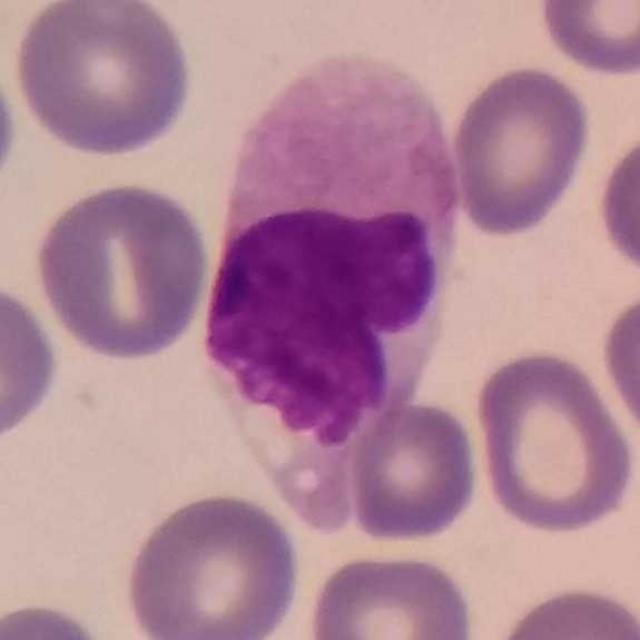Monocyte: (209, 41, 472, 529)
RBC: (30, 176, 214, 364), (468, 344, 639, 539), (8, 0, 197, 159), (119, 487, 306, 640), (446, 60, 596, 239), (343, 397, 484, 548), (302, 546, 479, 640), (0, 275, 63, 451), (487, 581, 640, 640), (533, 0, 640, 80), (592, 122, 640, 285), (597, 283, 640, 452), (0, 595, 118, 640), (0, 50, 21, 203)
